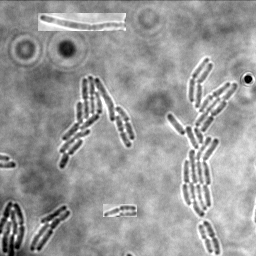Dividing: (38, 13, 126, 31), (204, 219, 222, 255), (199, 223, 215, 253), (103, 204, 137, 217)
Microcolony: (167, 57, 238, 216), (59, 75, 136, 169), (30, 204, 72, 251), (1, 200, 26, 255)
